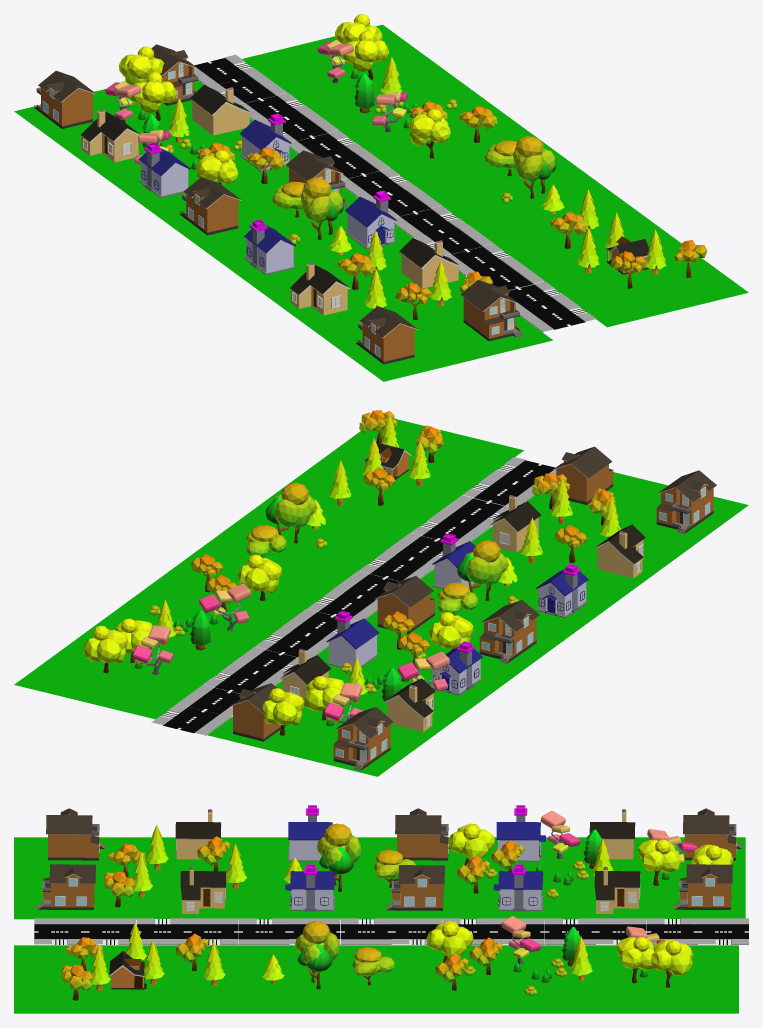
File: level1.glb
3 views of the same model, one above another, from view 1: azimuth 30°, elevation 25°; view 2: azimuth 150°, elevation 25°; view 3: azimuth 270°, elevation 25° (orthographic).
Parts seen in each view (by area): view 1: Plane.199, Plane.185, Residential 9.020, Residential 9.018, Residential 9.002, Residential 9.019, Residential 7.002, Residential 7.010, Residential 7.012, Residential 6.009, Residential 6.007, Residential 6.008 (+39 smaller); view 2: Plane.199, Plane.185, Residential 9.002, Residential 9.019, Residential 9.018, Residential 9.020, Residential 9.022, Residential 6.010, Residential 6.007, Residential 7.002, Residential 7.010, Residential 9.021 (+36 smaller); view 3: Plane.199, Plane.185, Residential 9.002, Residential 9.018, Residential 9.021, Residential 9.022, Residential 9.020, Residential 6.009, Residential 6.010, Residential 9.019, Residential 7.012, Residential 7.011 (+56 smaller).
Boxes of the visible parts, x1=… form: Plane.199: x1=242, y1=24, x2=748, y2=327; Plane.185: x1=14, y1=80, x2=552, y2=381; Residential 9.020: x1=460, y1=280, x2=522, y2=341; Residential 9.018: x1=179, y1=177, x2=241, y2=235; Residential 9.002: x1=356, y1=306, x2=417, y2=364; Residential 9.019: x1=34, y1=70, x2=96, y2=128; Residential 7.002: x1=290, y1=262, x2=350, y2=315; Residential 7.010: x1=81, y1=109, x2=139, y2=162; Residential 7.012: x1=190, y1=85, x2=250, y2=135; Residential 6.009: x1=345, y1=190, x2=396, y2=249; Residential 6.007: x1=244, y1=219, x2=295, y2=274; Residential 6.008: x1=139, y1=143, x2=190, y2=197; Plane.199: x1=14, y1=418, x2=523, y2=719; Plane.185: x1=207, y1=472, x2=748, y2=776; Residential 9.002: x1=656, y1=470, x2=716, y2=534; Residential 9.019: x1=333, y1=707, x2=393, y2=770; Residential 9.018: x1=479, y1=600, x2=539, y2=663; Residential 9.020: x1=553, y1=446, x2=613, y2=504; Residential 9.022: x1=375, y1=576, x2=434, y2=634; Residential 6.010: x1=326, y1=610, x2=379, y2=667; Residential 6.007: x1=536, y1=564, x2=588, y2=617; Residential 7.002: x1=595, y1=524, x2=645, y2=578; Residential 7.010: x1=384, y1=678, x2=435, y2=731; Residential 9.021: x1=230, y1=683, x2=286, y2=741; Plane.199: x1=14, y1=945, x2=738, y2=1013; Plane.185: x1=14, y1=837, x2=745, y2=919; Residential 9.002: x1=46, y1=808, x2=105, y2=860; Residential 9.018: x1=395, y1=808, x2=449, y2=860; Residential 9.021: x1=673, y1=864, x2=733, y2=909; Residential 9.022: x1=385, y1=865, x2=445, y2=910; Residential 9.020: x1=36, y1=864, x2=96, y2=909; Residential 6.009: x1=285, y1=864, x2=334, y2=911; Residential 6.010: x1=493, y1=864, x2=543, y2=911; Residential 9.019: x1=683, y1=808, x2=742, y2=860; Residential 7.012: x1=594, y1=866, x2=640, y2=914; Residential 7.011: x1=180, y1=866, x2=226, y2=914.
Bounding box in the file's own units: 81.75 × 12.87 × 144.
2 materials, 2 textured.
